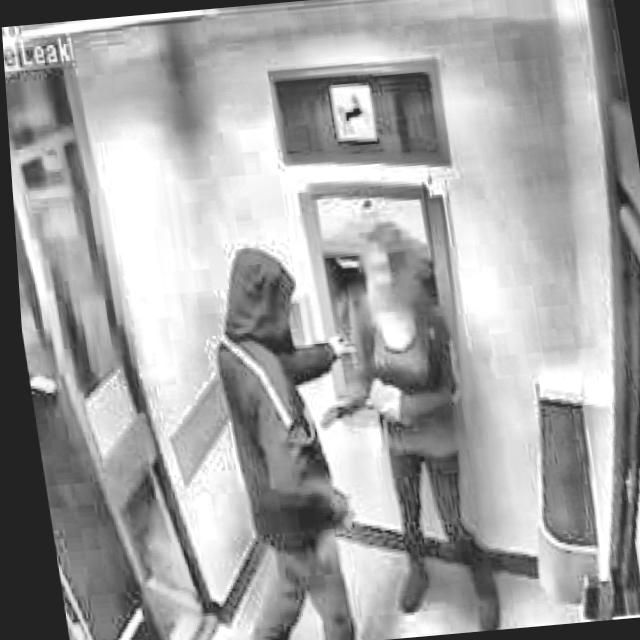robbery: (181, 215, 496, 640)
